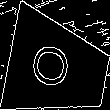O_E: (34, 42, 82, 95)
